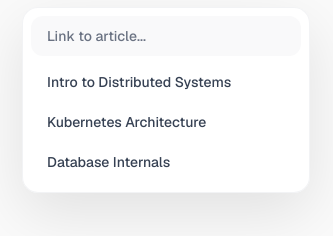
Test: Article Subcomponents › ArticleInlineLinker.vue › displays message when query has no matches
In the field with placeholder "Link to article...": (166, 36) [31, 16, 301, 56], type "nonexistent topic"
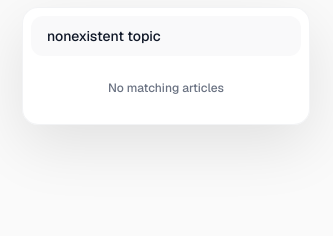
Expected: the text "No matching articles" is shown, [108, 80, 224, 96]
